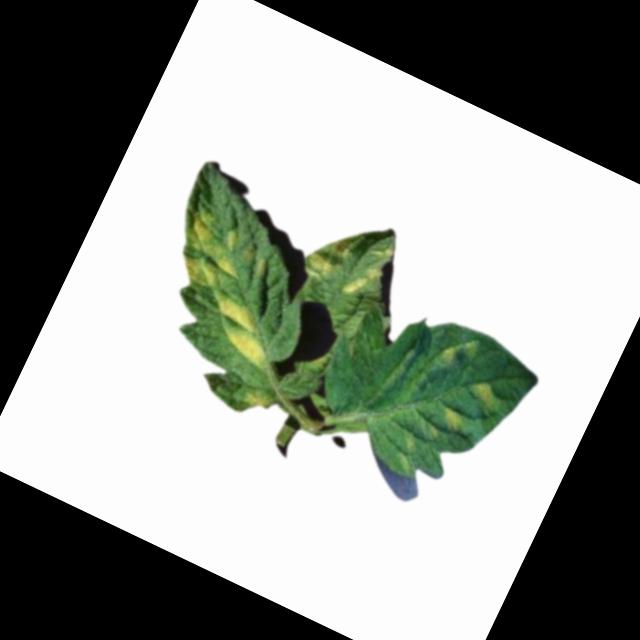Leaf_Mold: (170, 201, 263, 300), (202, 293, 287, 368), (299, 220, 360, 288), (340, 238, 395, 306), (467, 376, 504, 411), (239, 382, 277, 416), (435, 338, 464, 370), (439, 406, 469, 436)
